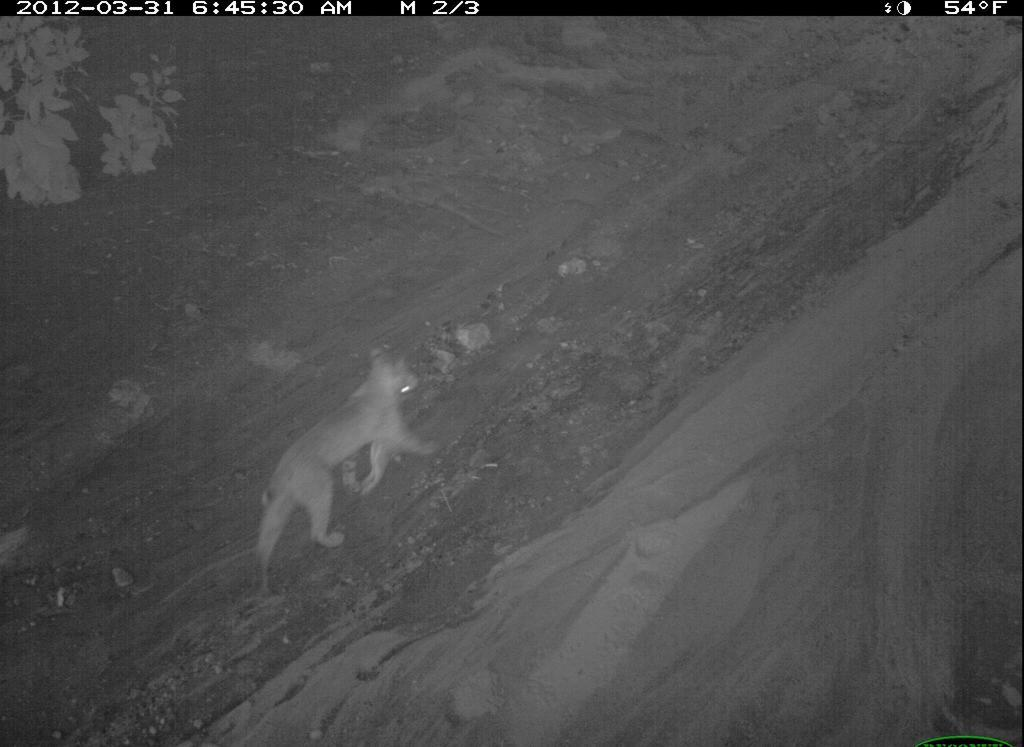bobcat: (489, 677, 884, 747)
